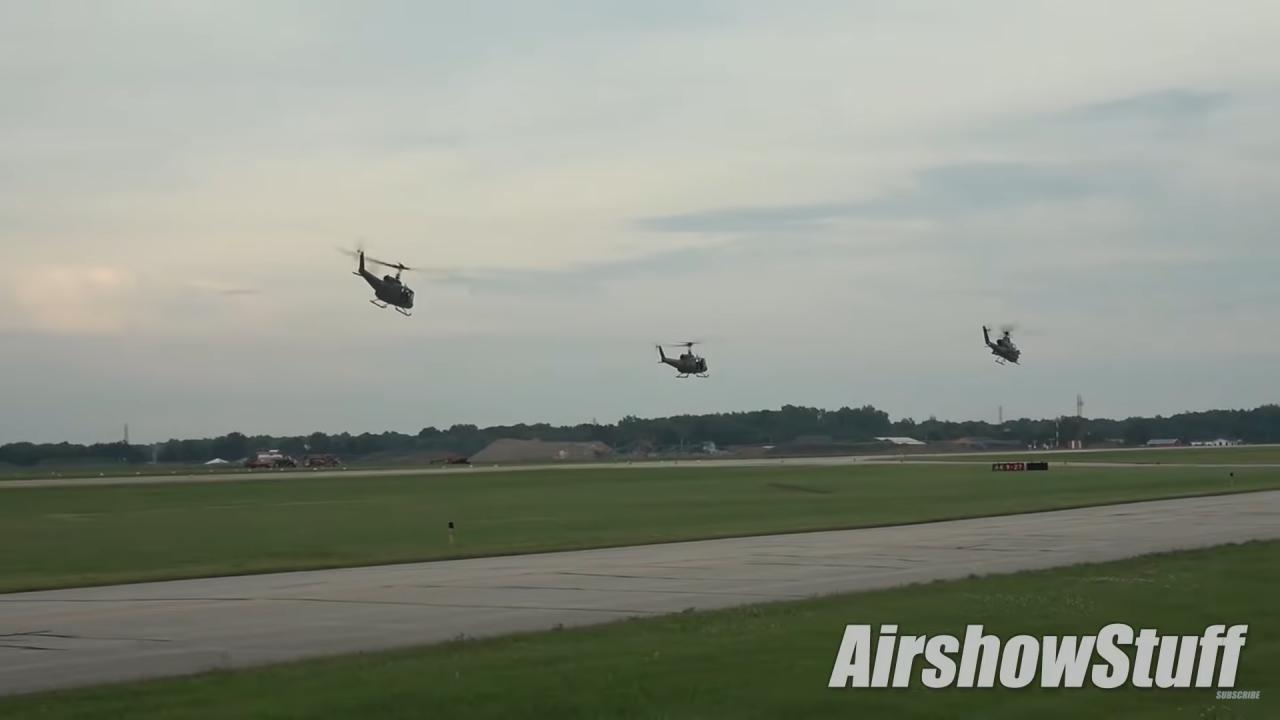Helicopter: (309, 231, 476, 334), (622, 322, 748, 398), (952, 306, 1066, 384)
